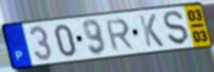0: (53, 24, 79, 59)
3: (28, 25, 54, 63)
9: (82, 18, 108, 57)
K: (137, 13, 165, 48)
R: (104, 17, 136, 52)
S: (162, 10, 191, 46)
